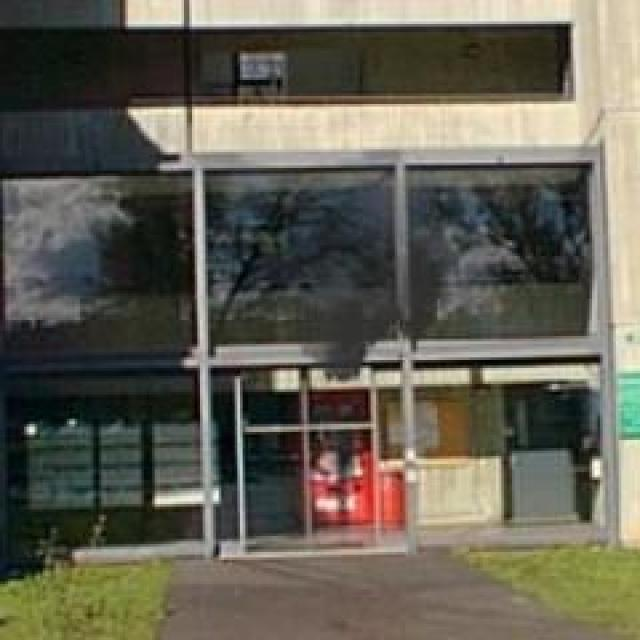smoke: (254, 146, 458, 394)
